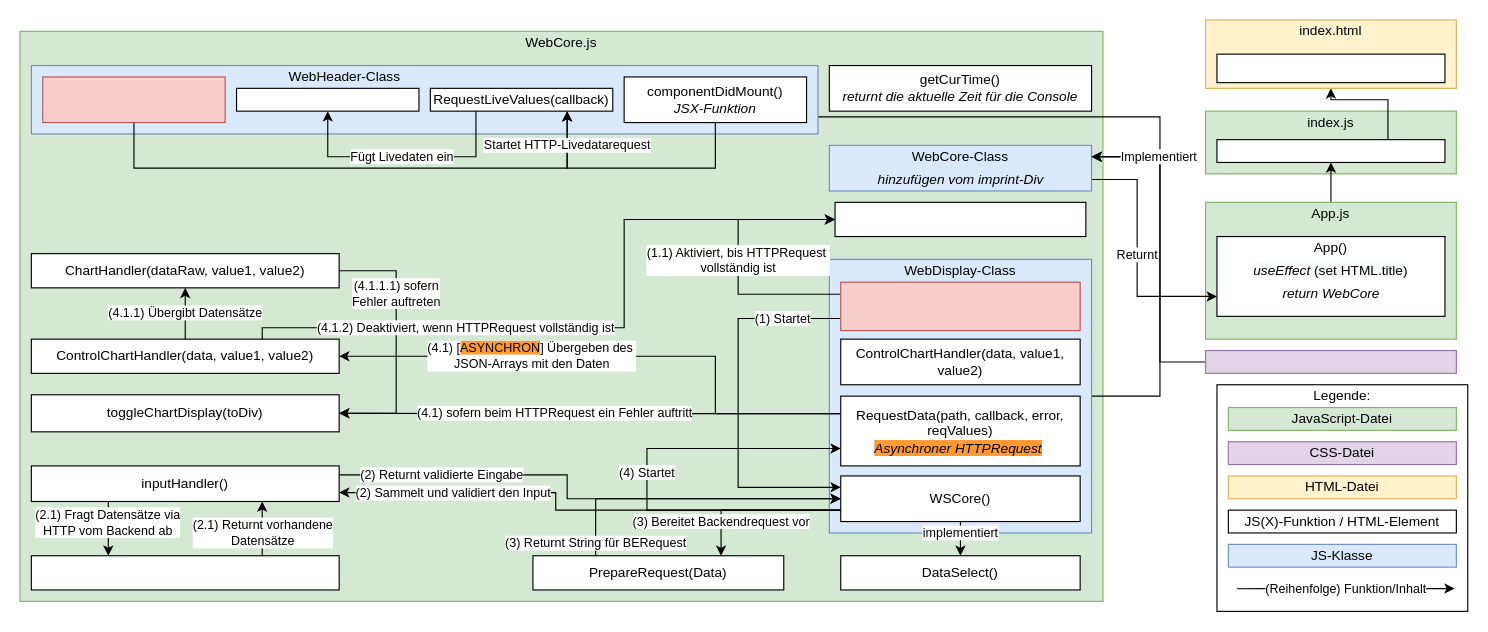
Some shapes in this 1488 by 632 pixel diagram are drawn without their labels. The centre of each missing label's shape, as x and y in pixels:
"async handleLoading() Button-Trigger-Event" belongs at [960,306].
"LoadingAnimation()" belongs at [960,219].
"PasteLiveValues(data)" belongs at [327,99].
"ReactDOM" belongs at [1330,150].
"ReloadRequest() Button-Trigger-Event" belongs at [133,99].
"RequestDataRange()" belongs at [184,572].
"Root-Element" belongs at [1330,68].
"WebCore.css" belongs at [1330,361].
